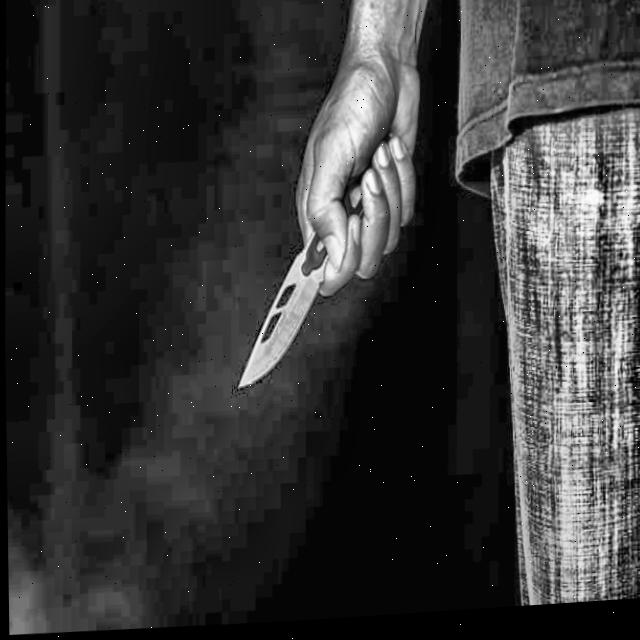pisau: (234, 93, 431, 399)
